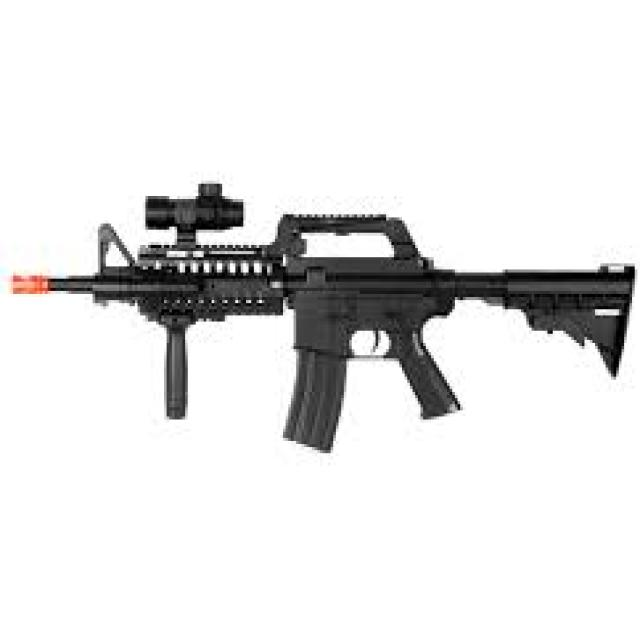rifle: (6, 181, 640, 465)
